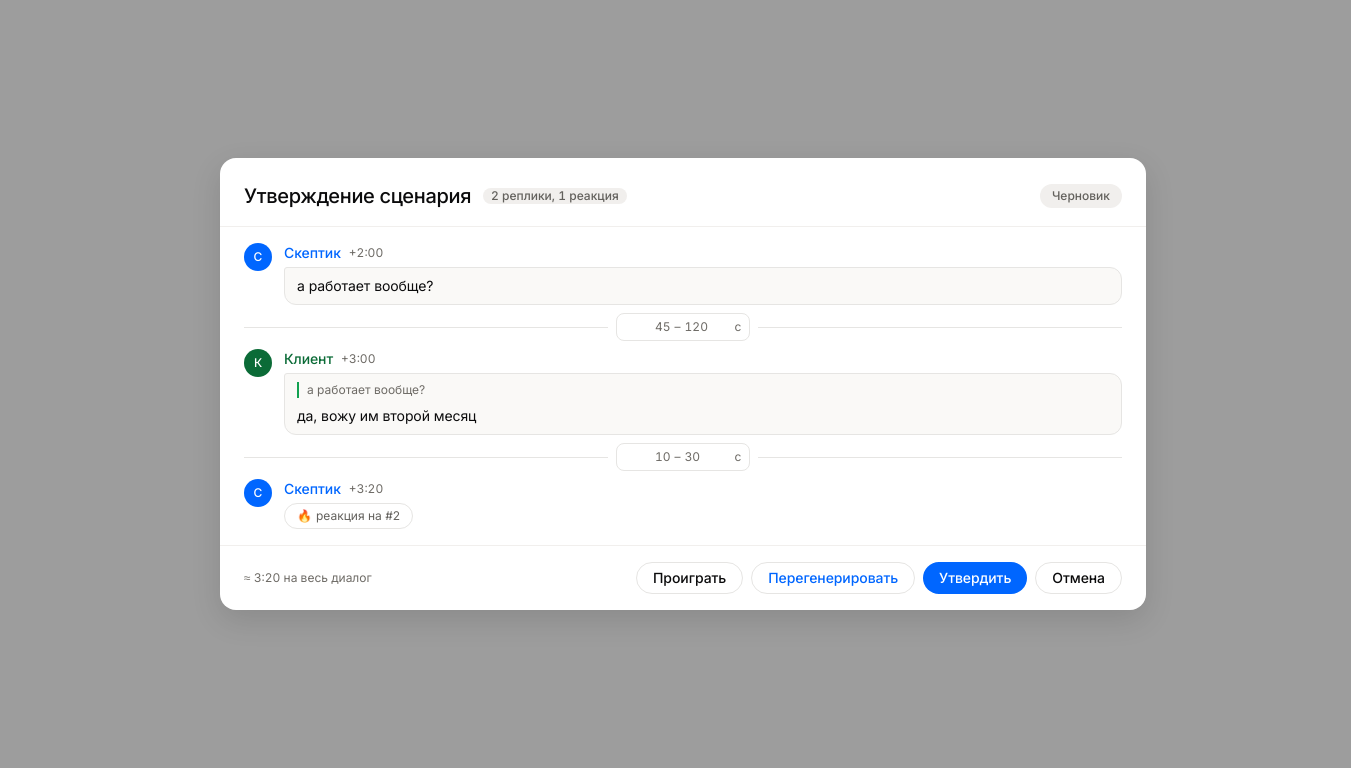
Test case: the pause between messages is editable in place, and the pair cannot invert
Replace the text in the number field named "Минимальная пауза перед шагом 2" with "300" at [648, 327], box [625,319,671,335]
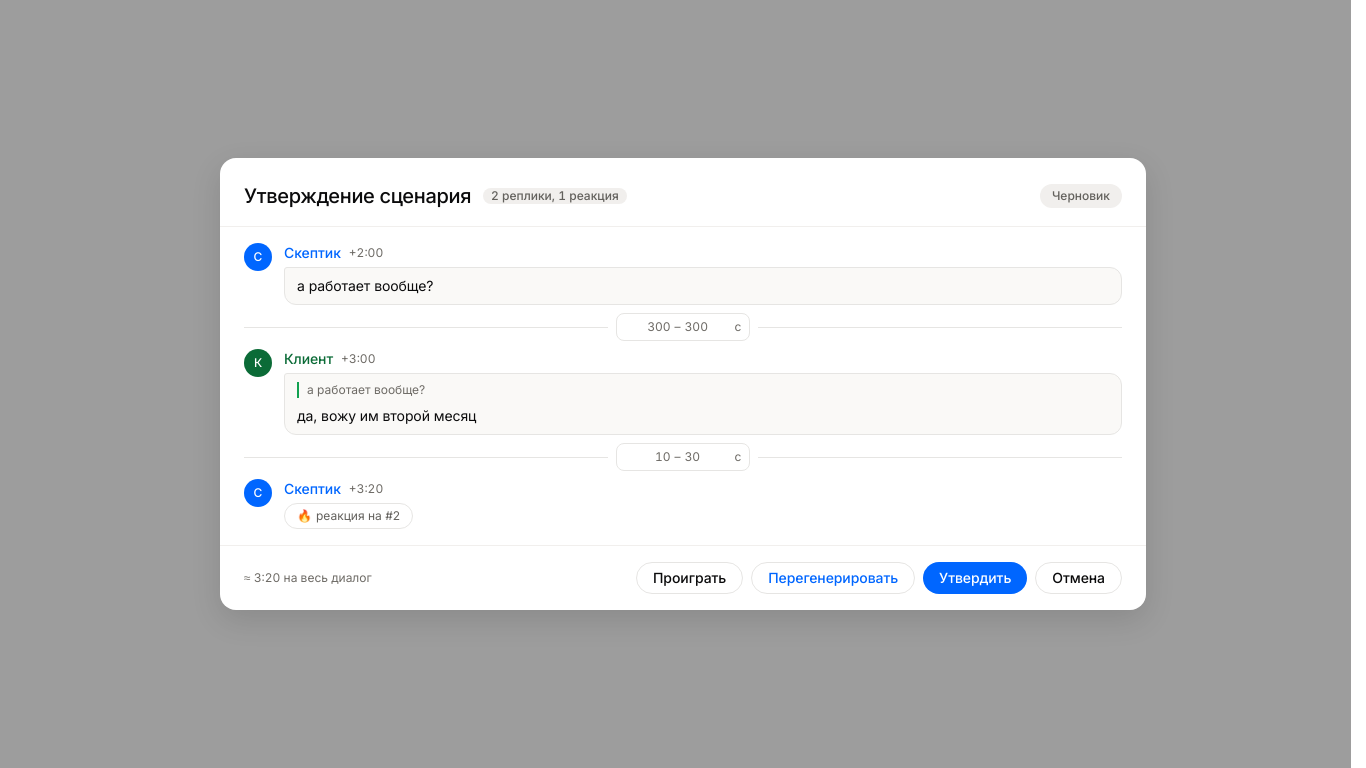
expect the number field named "Максимальная пауза перед шагом 2" holds "300": met, box [685,319,731,335]
